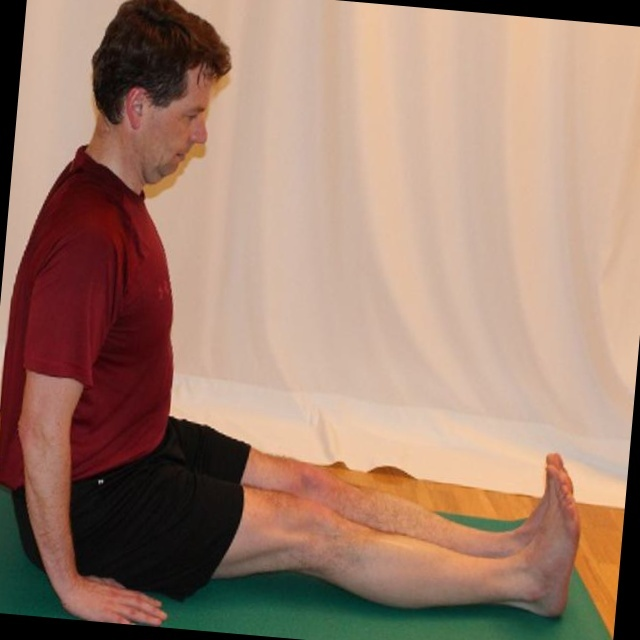Staff_Pose: (12, 4, 584, 628)
